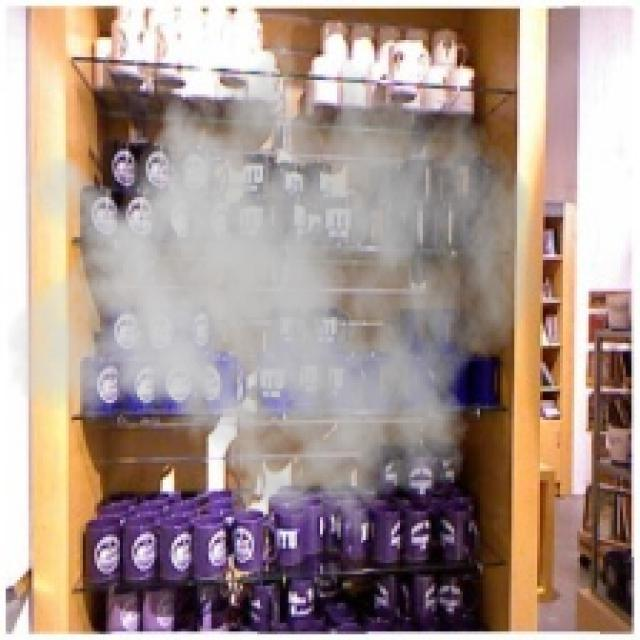smoke: (3, 9, 540, 552)
